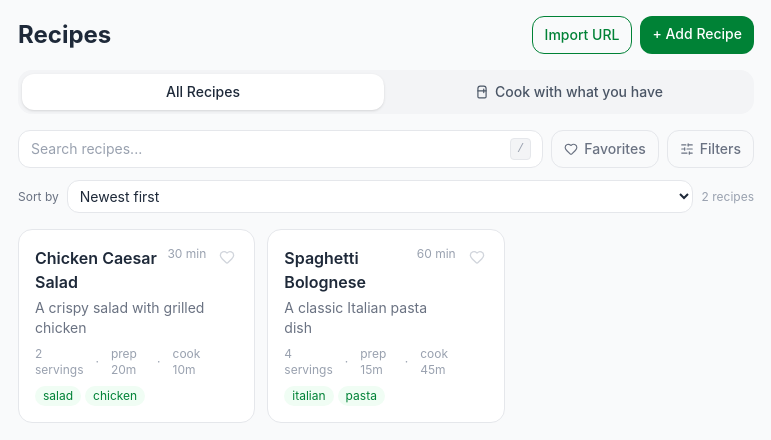
RecipesPage › search filtering › clearing the input restores the full list
Expected: the heading "Spaghetti Bolognese" is shown, x1=284 y1=248 x2=366 y2=292
Step 1. Type "chicken" into the search field with placeholder "Search recipes..." → (281, 149), box x1=18 y1=130 x2=543 y2=168
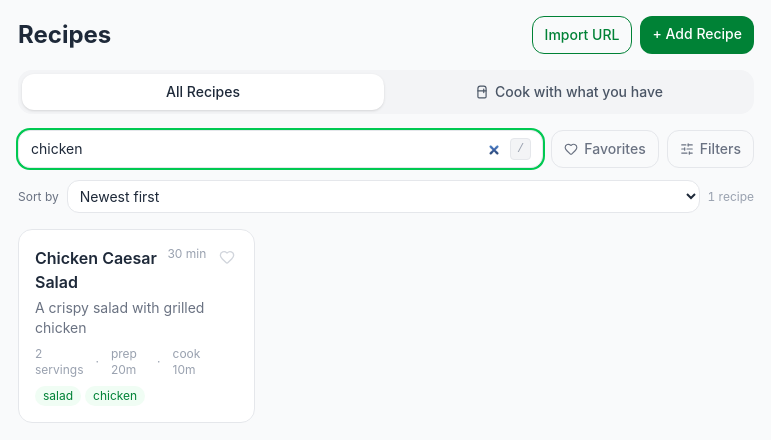
Result: the link "Spaghetti Bolognese" is gone
Step 2. Clear the search field with placeholder "Search recipes..." → (281, 149), box x1=18 y1=130 x2=543 y2=168
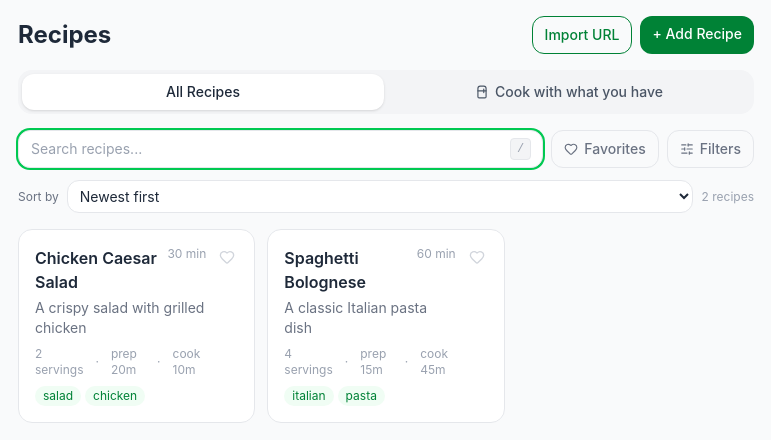
Expected: the heading "Chicken Caesar Salad" is shown, x1=35 y1=246 x2=160 y2=294
Result: the heading "Spaghetti Bolognese" is shown at x1=284 y1=248 x2=366 y2=292
